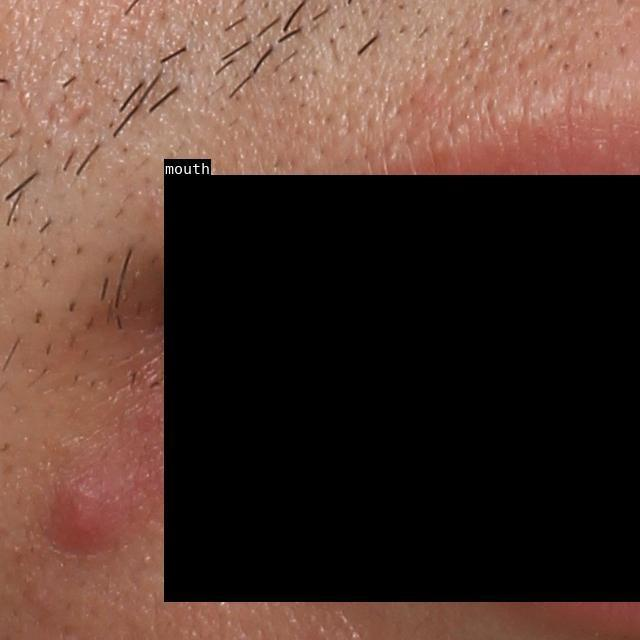atrophic_scar: (54, 103, 99, 134)
papule: (45, 483, 117, 556)
